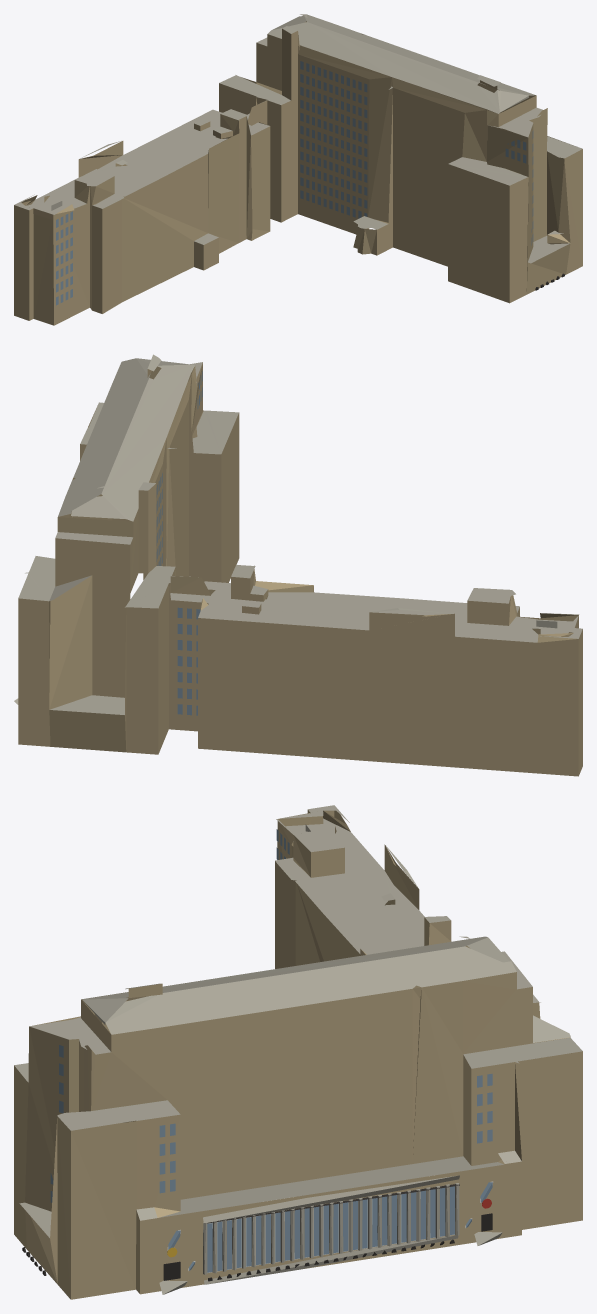
The model's file is kohnstammhuis.lod1.glb.
3 renders of one model, top to bottom at view 1: azimuth 30°, elevation 25°; view 2: azimuth 150°, elevation 25°; view 3: azimuth 270°, elevation 25°, orthographic. The views are drawn at different scales.
Parts seen in each view (by area): view 1: kohnstammhuis; view 2: kohnstammhuis; view 3: kohnstammhuis.
Part boxes in pixels (x1=…): kohnstammhuis: x1=14, y1=14, x2=582, y2=325; kohnstammhuis: x1=14, y1=354, x2=582, y2=776; kohnstammhuis: x1=14, y1=805, x2=582, y2=1299.
Bounding box in the file's own units: 135 × 50.16 × 97.02.
